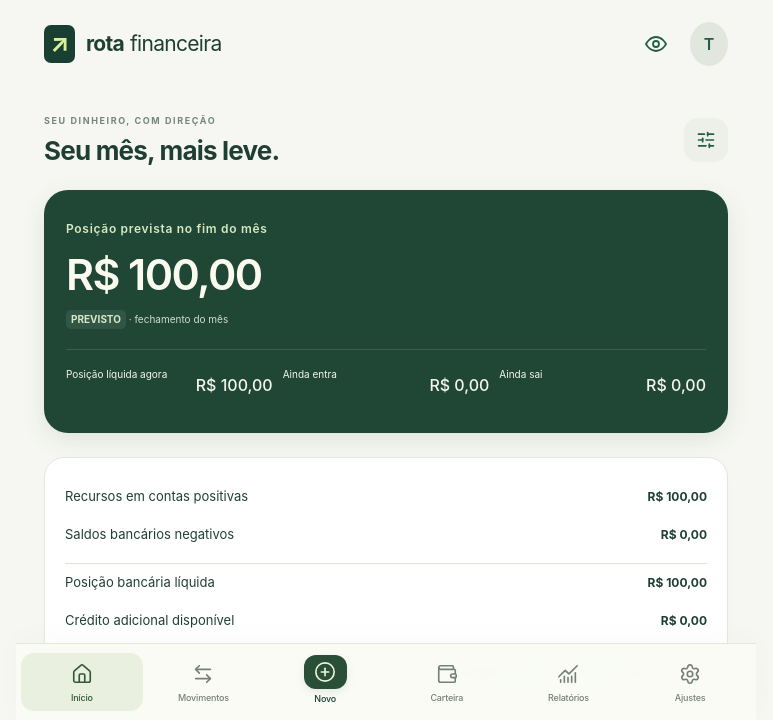
experiência: relatórios, extrato e atualização › relatórios usam o mesmo fechamento da Home e não escrevem dados
Expected: the text "Posição líquida agora" is shown, [66,368,167,380]
What coordinates should you click on to do the following:
click the button "Relatórios"
I would click on:
 (569, 682)
Its box is [508,652,629,711].
(page scrolled)
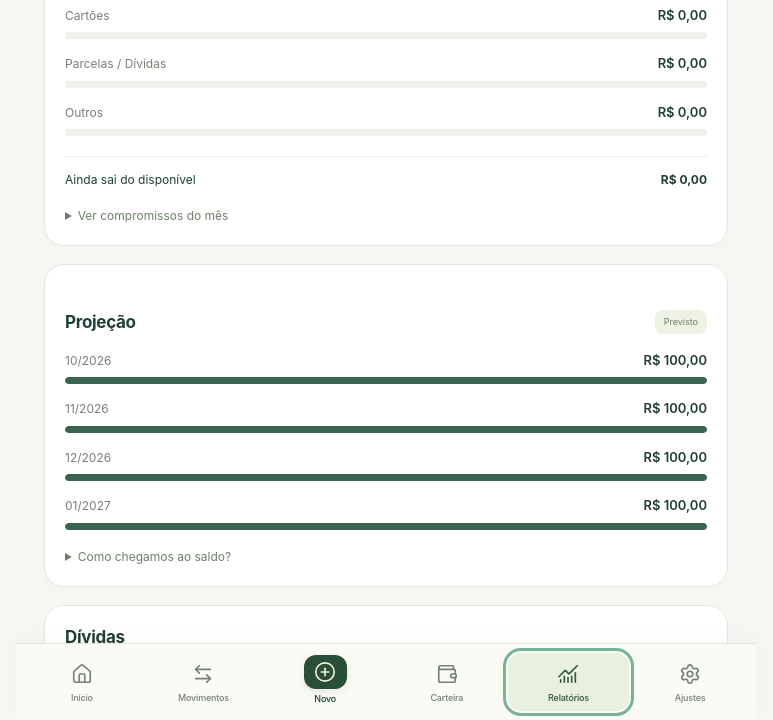
Expected: the heading "Projeção" is shown, [65,311,136,333]
Expected: the heading "Dívidas" is shown, [65,627,125,647]
